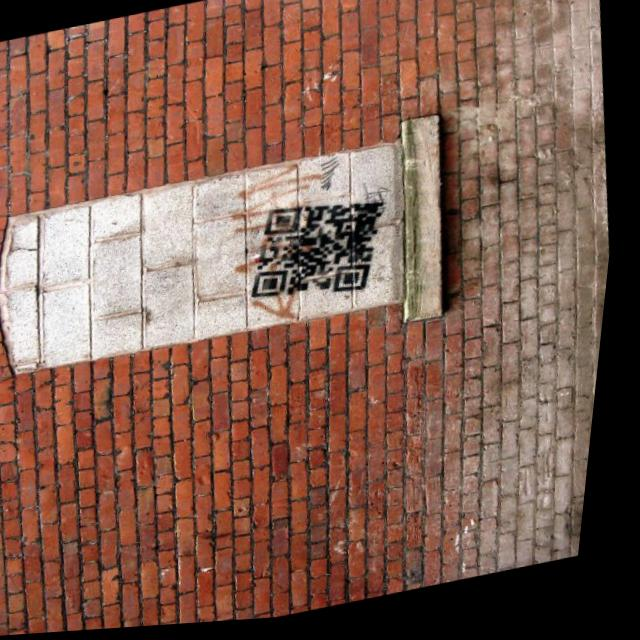qrcode: (246, 192, 403, 318)
